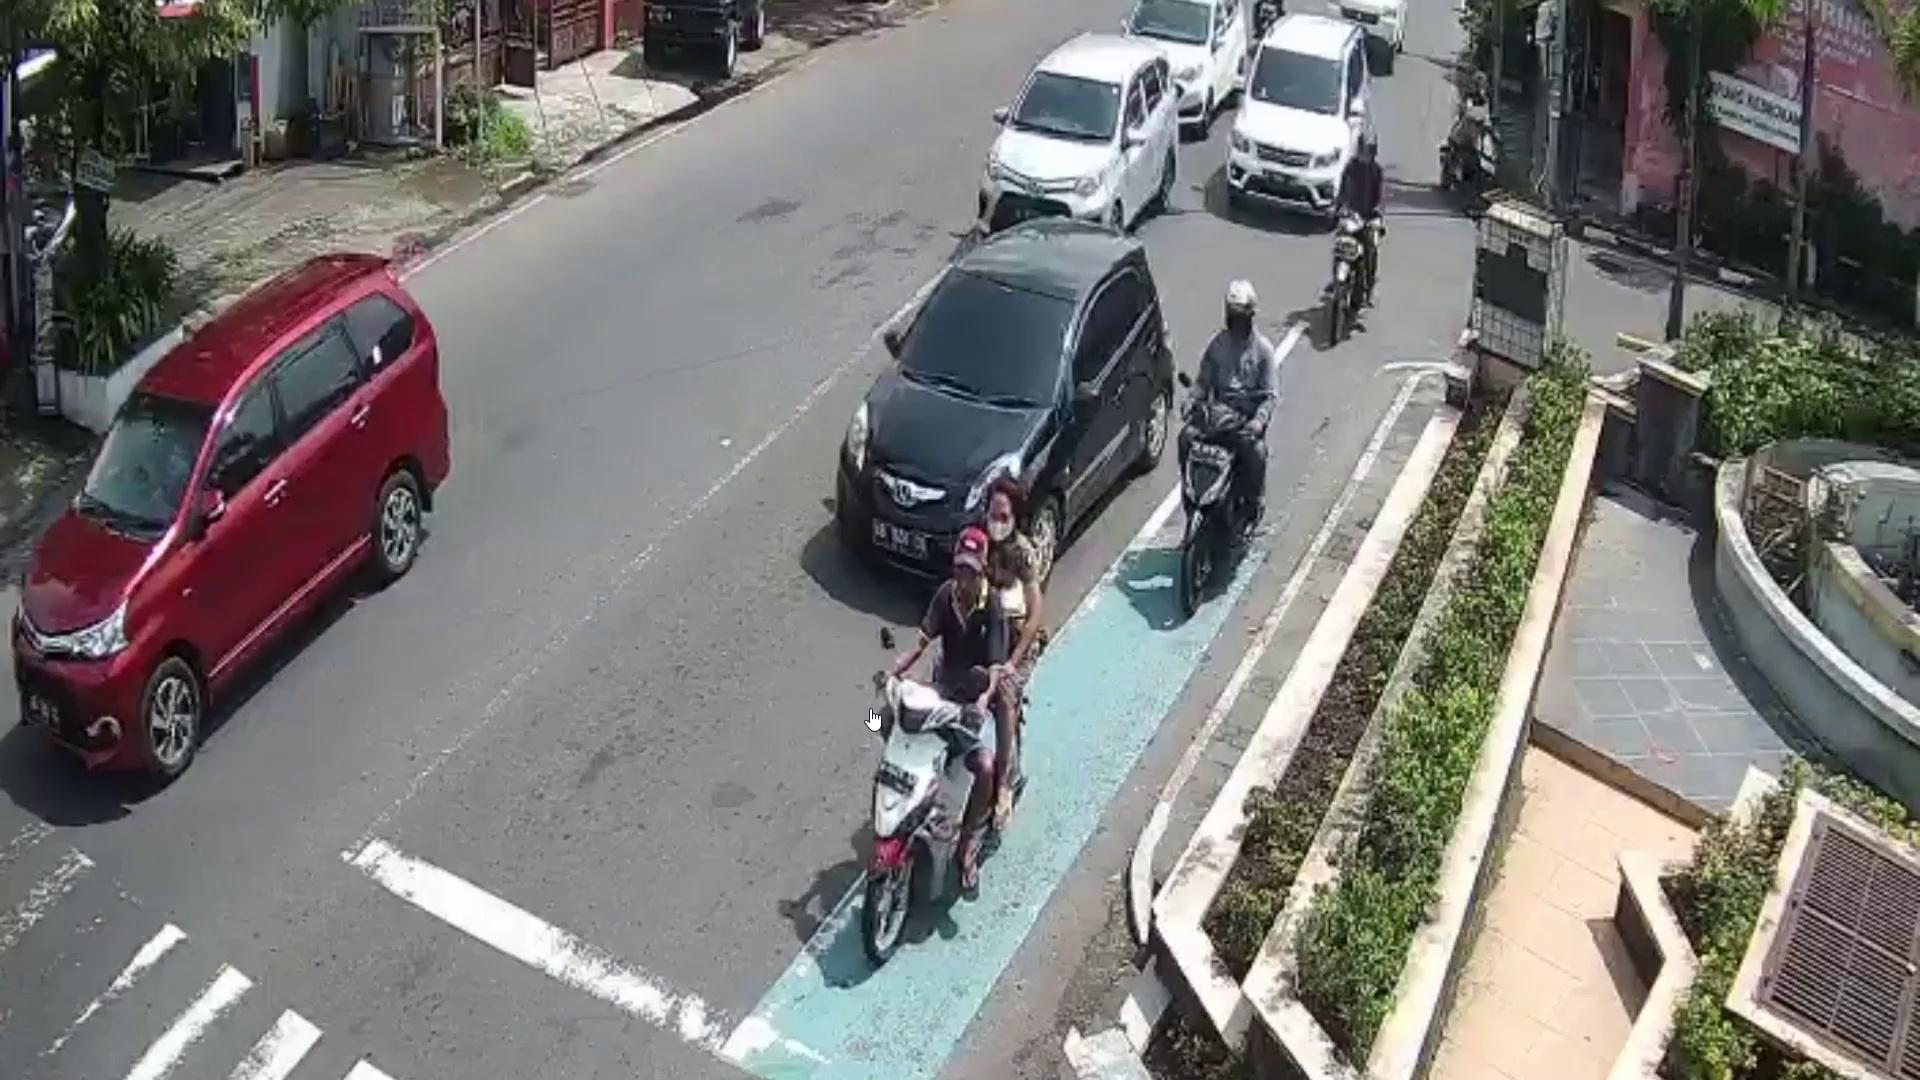car: (11, 247, 455, 785), (836, 215, 1176, 587), (969, 30, 1180, 244), (1224, 12, 1374, 227), (1127, 1, 1249, 135)
motorbike: (862, 669, 1027, 972), (1179, 402, 1269, 612), (1324, 204, 1375, 342), (1444, 103, 1497, 229)
